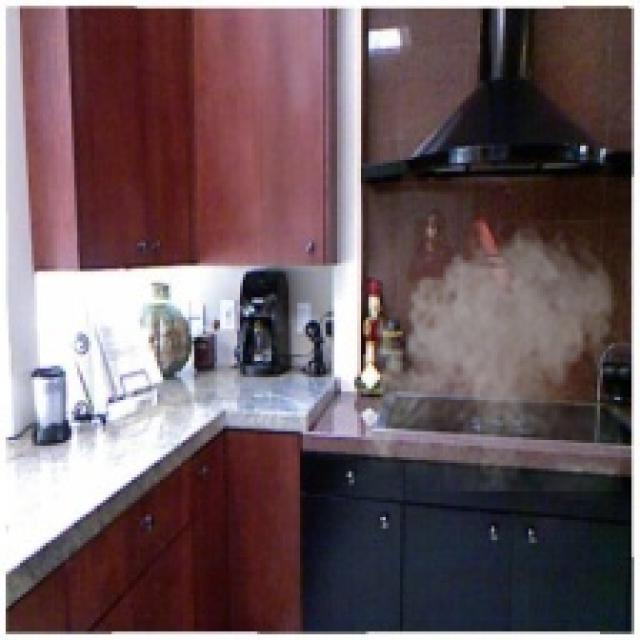Smoke: (357, 217, 623, 492)
